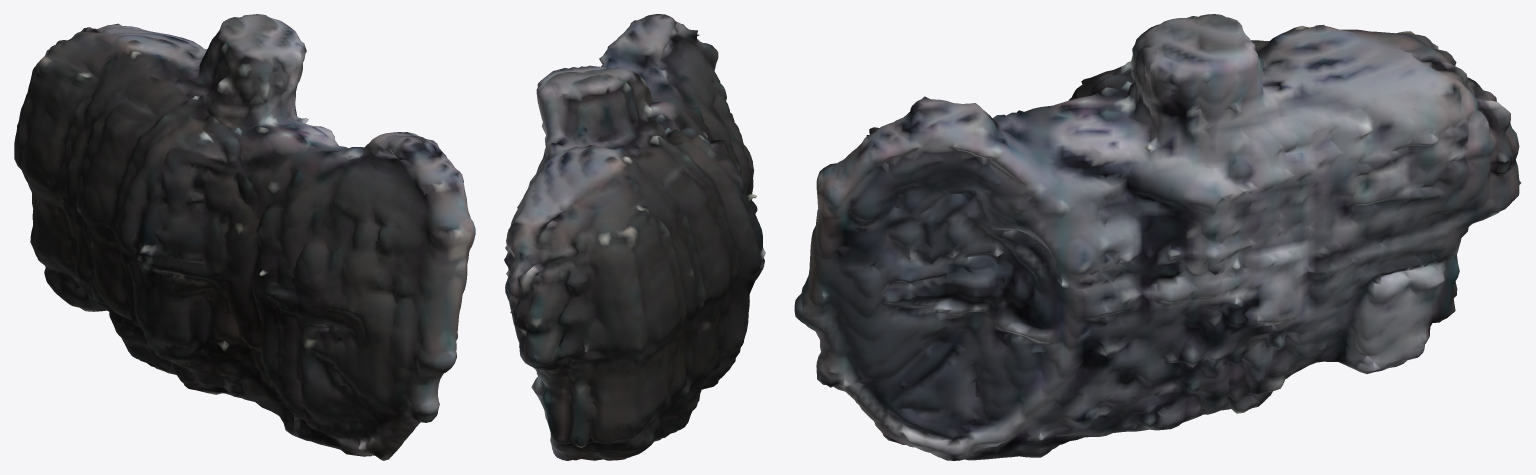
Rendered from gearbox.glb.
3 renders of one model, left to right at view 1: azimuth 30°, elevation 25°; view 2: azimuth 150°, elevation 25°; view 3: azimuth 270°, elevation 25°, orthographic. The views are drawn at different scales.
Parts seen in each view (by area): view 1: geometry_0; view 2: geometry_0; view 3: geometry_0.
Boxes of the visible parts, x1=… form: geometry_0: x1=14, y1=14, x2=475, y2=460; geometry_0: x1=504, y1=14, x2=765, y2=460; geometry_0: x1=794, y1=14, x2=1520, y2=460.
Bounding box in the file's own units: 0.3971 × 0.6001 × 0.9131.
